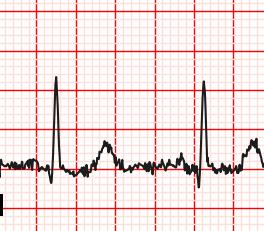Pathological Q Wave: (189, 161, 208, 191), (44, 162, 58, 190)
